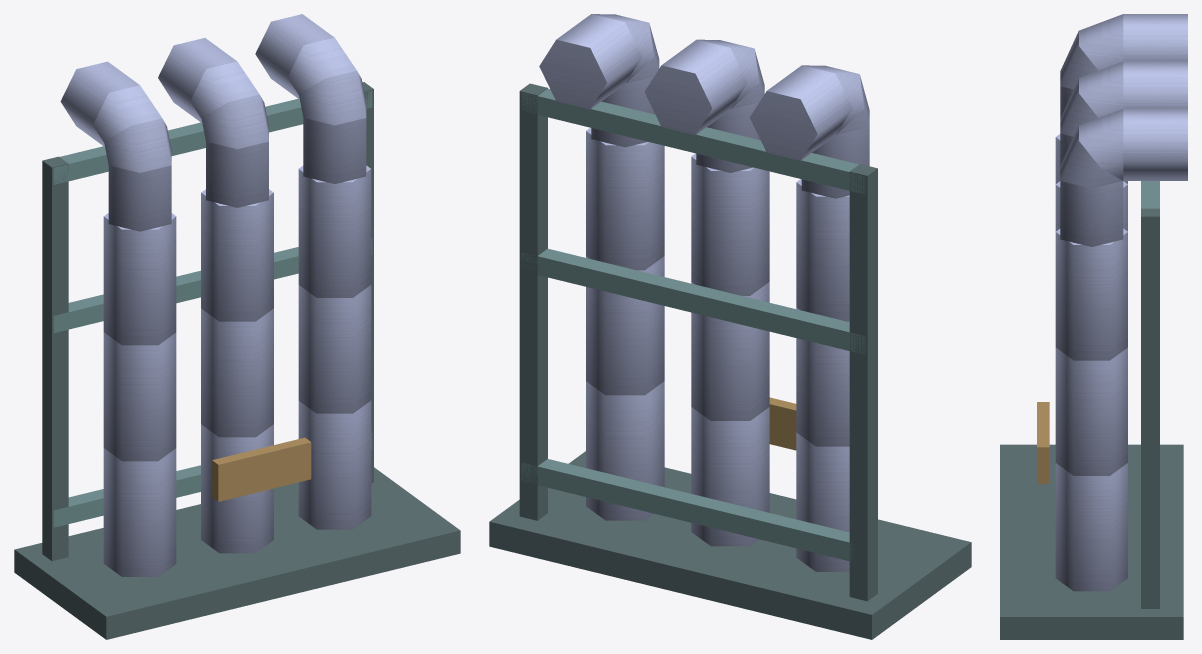
File: pipe_rack.glb
The picture shows the model from 3 angles, left to right: view 1: azimuth 30°, elevation 25°; view 2: azimuth 150°, elevation 25°; view 3: azimuth 270°, elevation 25°; orthographic projection. The views are drawn at different scales.
Visible parts, largest first — view 1: Footplate, pipe_bend_18, pipe_bend_10, pipe_bend_14, Upright, pipe_9, pipe_8, pipe_17, pipe_7, pipe_16, pipe_12, pipe_13 (+7 smaller); view 2: Footplate, Upright, Upright.001, pipe_bend_10, pipe_17, pipe_13, Crossmember.001, pipe_bend_14, pipe_bend_18, Crossmember, Crossmember.002, pipe_16 (+7 smaller); view 3: Footplate, pipe_bend_18, pipe_17, pipe_15, pipe_16, Upright.001, pipe_bend_14, pipe_bend_10, ServiceID, Crossmember.002, pipe_13, pipe_9.
Boxes of the visible parts, bbox=[...] form: Footplate: bbox=[14, 467, 460, 639]; pipe_bend_18: bbox=[255, 14, 366, 183]; pipe_bend_10: bbox=[60, 61, 171, 231]; pipe_bend_14: bbox=[158, 38, 268, 207]; Upright: bbox=[42, 156, 68, 560]; pipe_9: bbox=[103, 213, 176, 345]; pipe_8: bbox=[103, 332, 176, 461]; pipe_17: bbox=[298, 165, 371, 297]; pipe_7: bbox=[103, 448, 176, 576]; pipe_16: bbox=[298, 285, 371, 413]; pipe_12: bbox=[201, 308, 273, 437]; pipe_13: bbox=[201, 189, 273, 321]; Footplate: bbox=[489, 451, 971, 639]; Upright: bbox=[849, 164, 877, 601]; Upright.001: bbox=[519, 83, 547, 520]; pipe_bend_10: bbox=[749, 65, 869, 198]; pipe_17: bbox=[586, 127, 664, 270]; pipe_13: bbox=[691, 153, 769, 295]; Crossmember.001: bbox=[521, 248, 865, 354]; pipe_bend_14: bbox=[644, 39, 764, 172]; pipe_bend_18: bbox=[539, 14, 659, 147]; Crossmember: bbox=[521, 459, 854, 561]; Crossmember.002: bbox=[521, 88, 865, 194]; pipe_16: bbox=[586, 256, 664, 395]; Footplate: bbox=[1000, 444, 1183, 639]; pipe_bend_18: bbox=[1060, 108, 1187, 246]; pipe_17: bbox=[1055, 228, 1127, 360]; pipe_15: bbox=[1055, 463, 1127, 591]; pipe_16: bbox=[1055, 347, 1127, 475]; Upright.001: bbox=[1141, 208, 1159, 608]; pipe_bend_14: bbox=[1060, 61, 1187, 165]; pipe_bend_10: bbox=[1060, 14, 1187, 117]; ServiceID: bbox=[1037, 402, 1049, 483]; Crossmember.002: bbox=[1141, 181, 1159, 208]; pipe_13: bbox=[1055, 181, 1127, 231]; pipe_9: bbox=[1055, 134, 1127, 183].
Size of the model in its own units: 1.6 by 2.1 by 0.7368.
4 materials, 1 textured.
